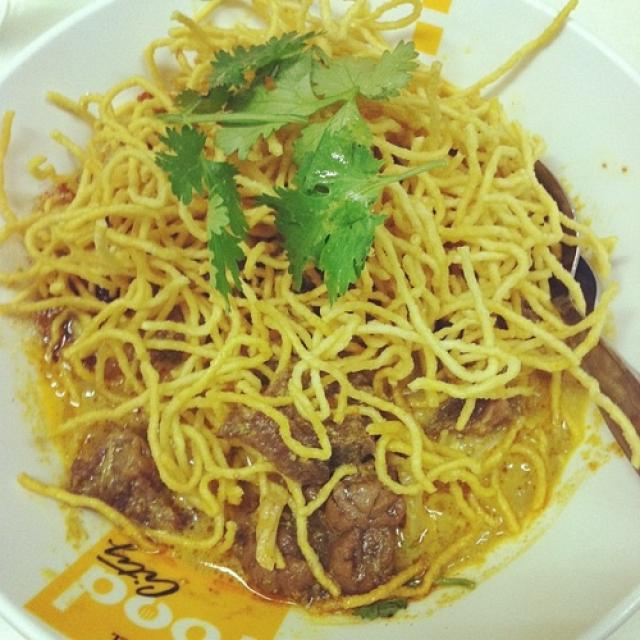面条主食: (23, 13, 621, 628)
